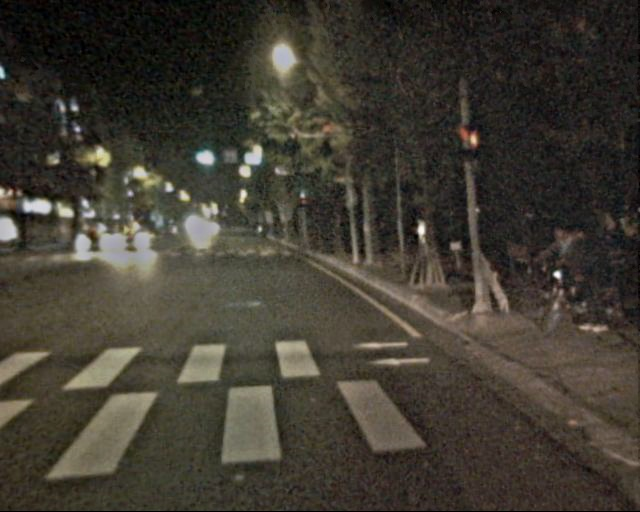person: (564, 229, 615, 330), (591, 211, 638, 310), (544, 225, 583, 318)
